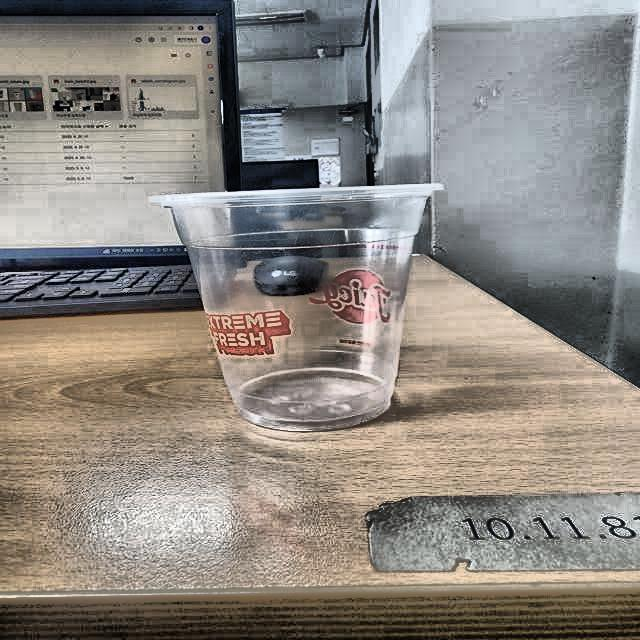plastic cup: (147, 184, 446, 430)
